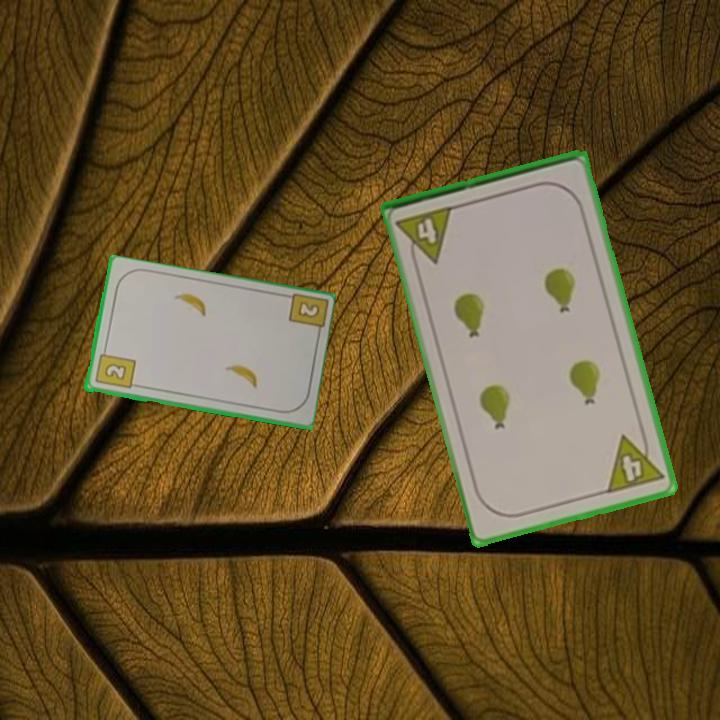2b: (91, 345, 137, 392), (294, 298, 322, 321)
4p: (603, 426, 667, 497), (393, 202, 457, 270)
